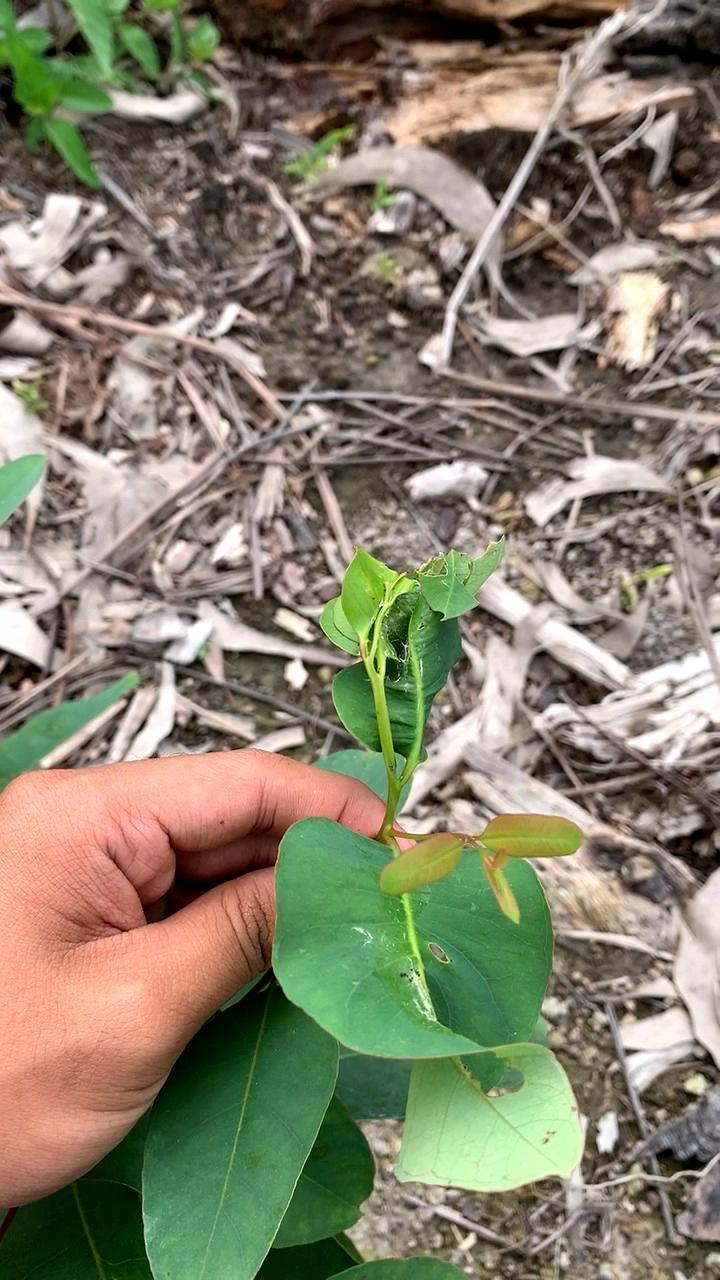Leaf Roller - Leaf: (333, 556, 509, 787)
